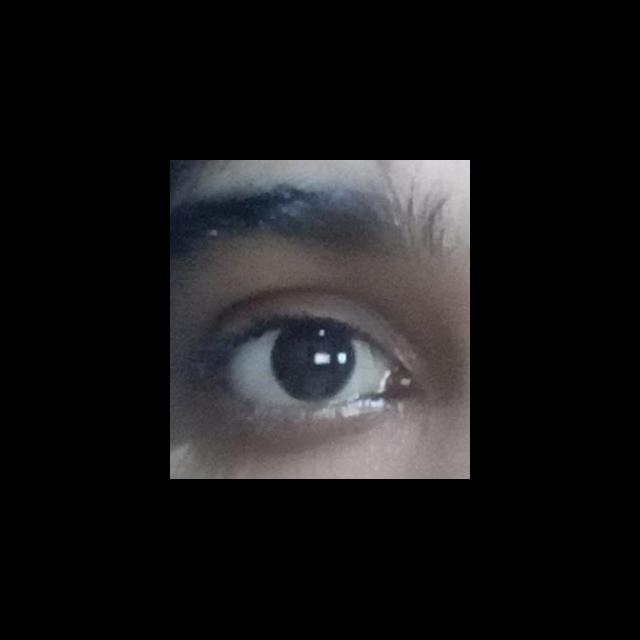eye: (226, 322, 387, 409)
iris: (271, 325, 355, 402)
